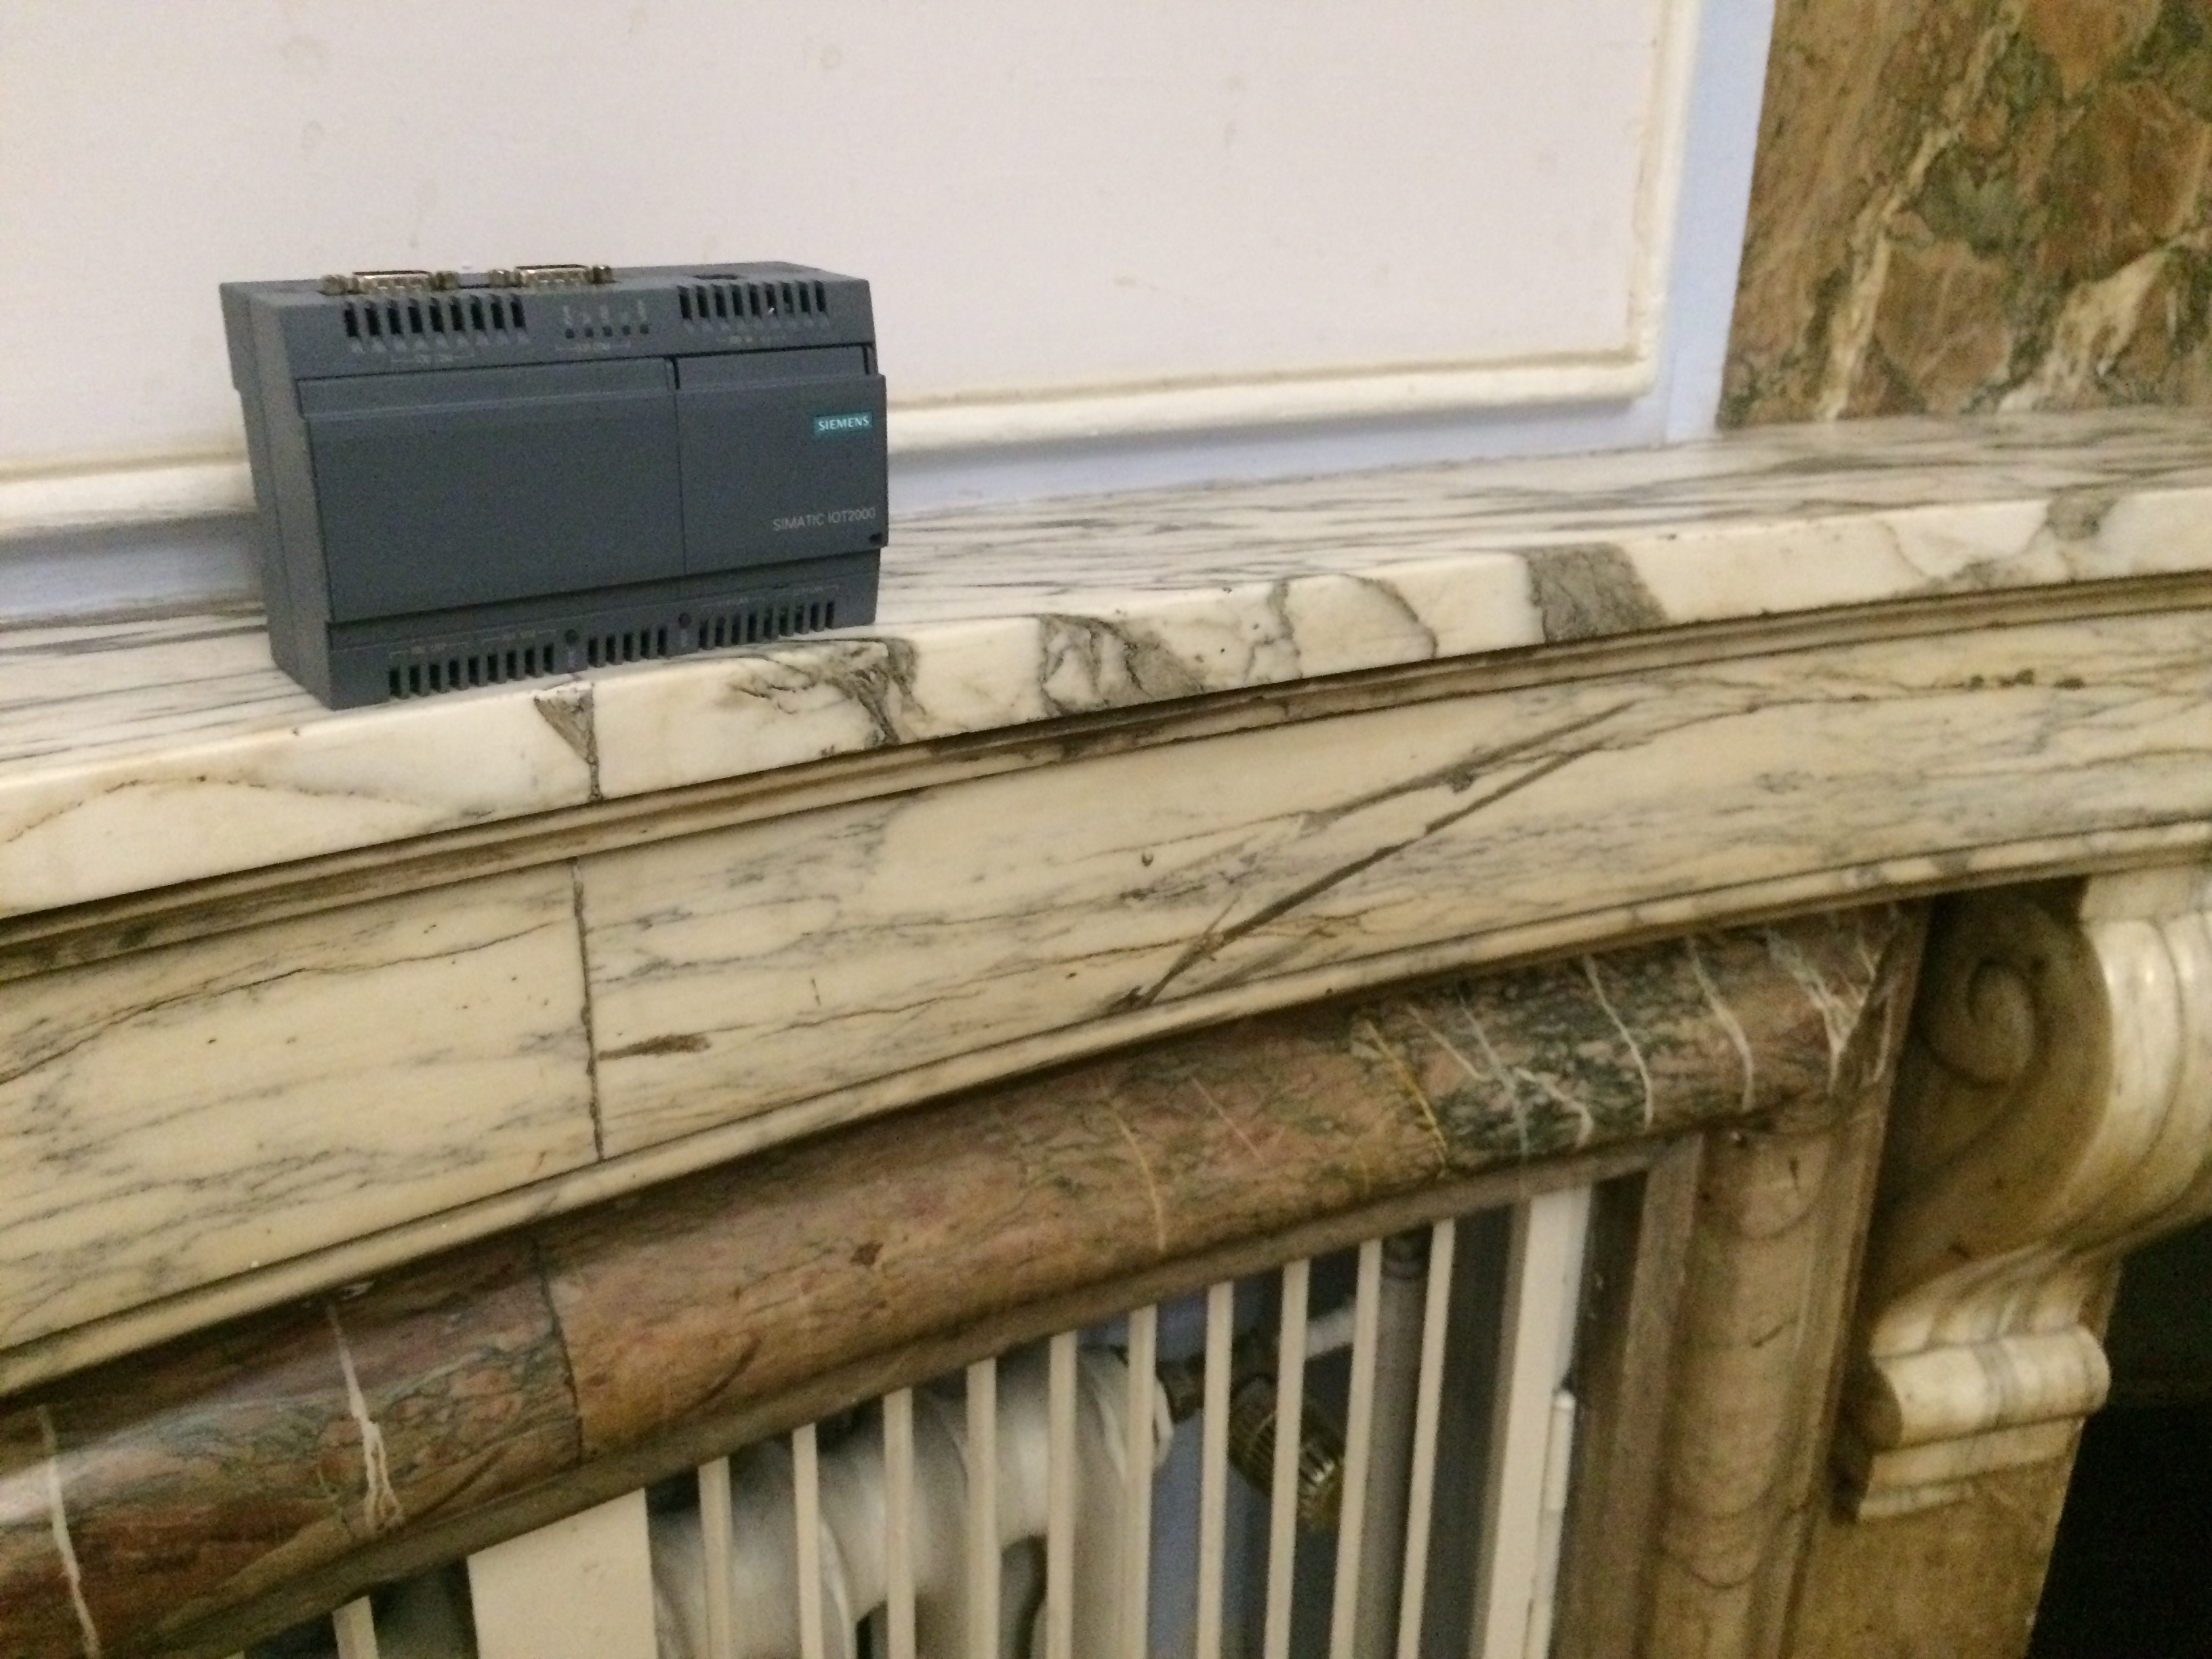iot2000: (216, 253, 895, 714)
